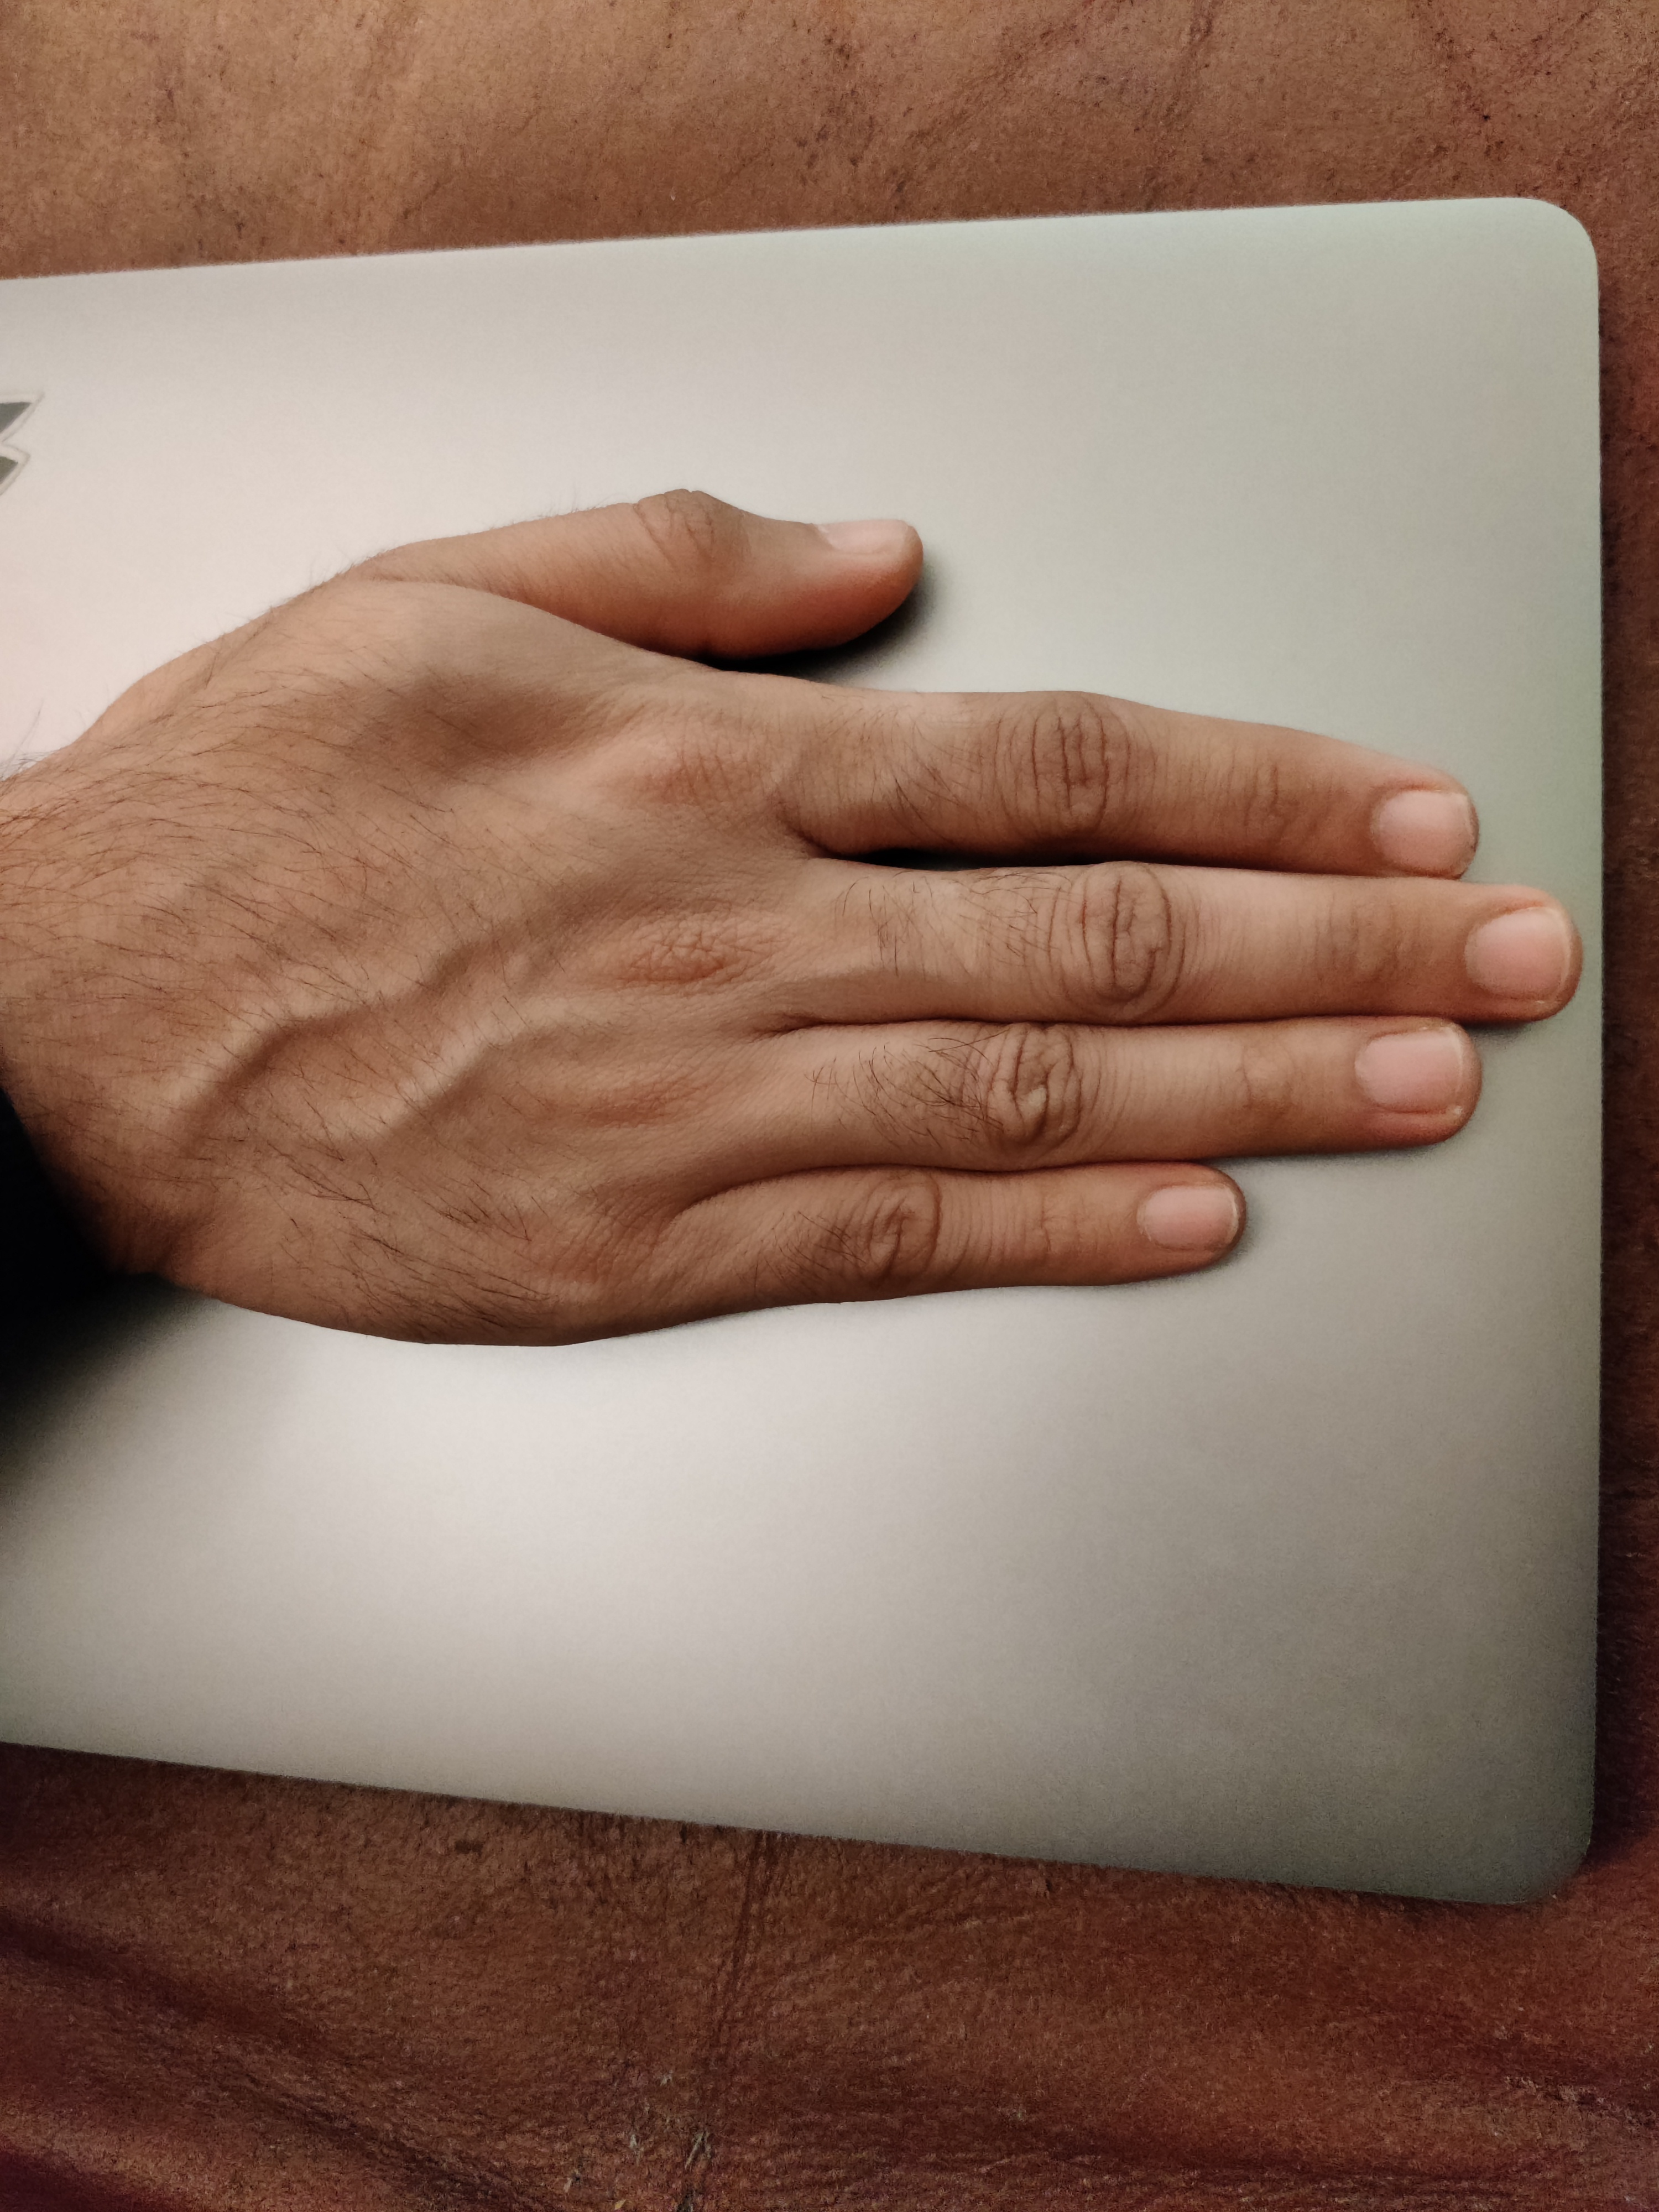left: (66, 341, 1600, 1578)
